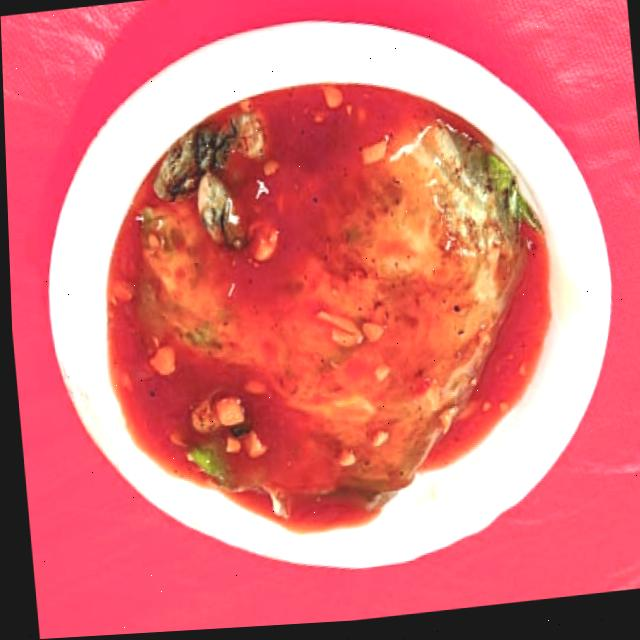熟制海鲜: (30, 26, 640, 611)
